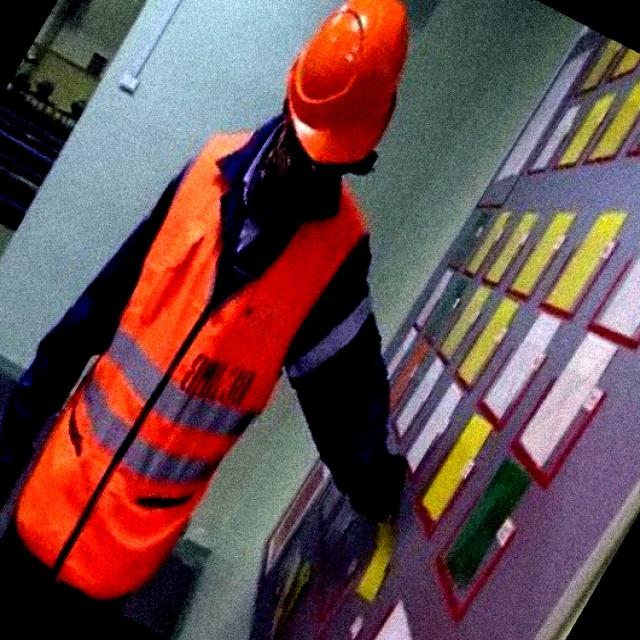helmet: (256, 2, 436, 178)
safety_vest: (21, 150, 351, 612)
